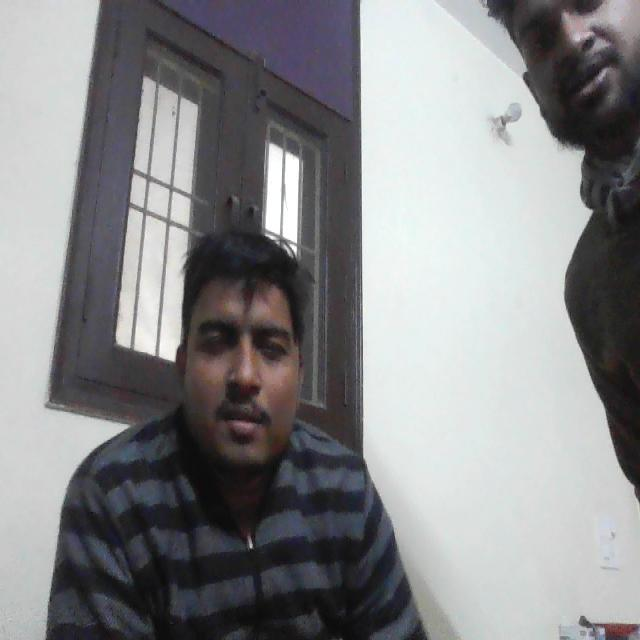real: (168, 204, 320, 491)
